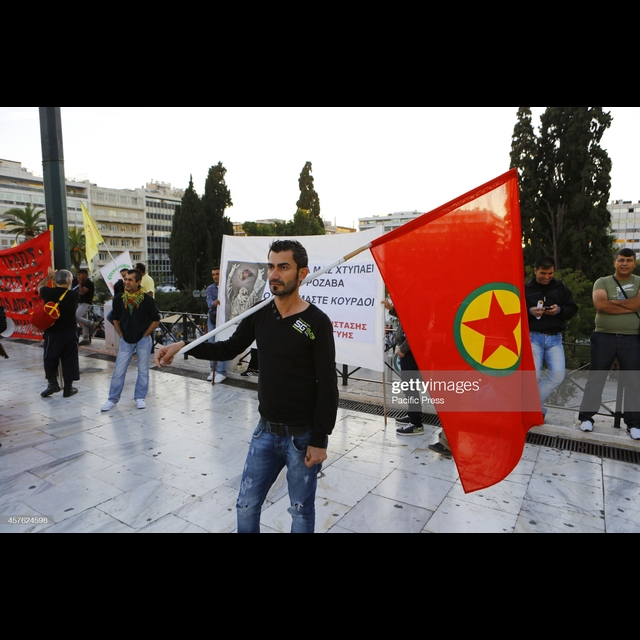PKK: (450, 276, 528, 378)
